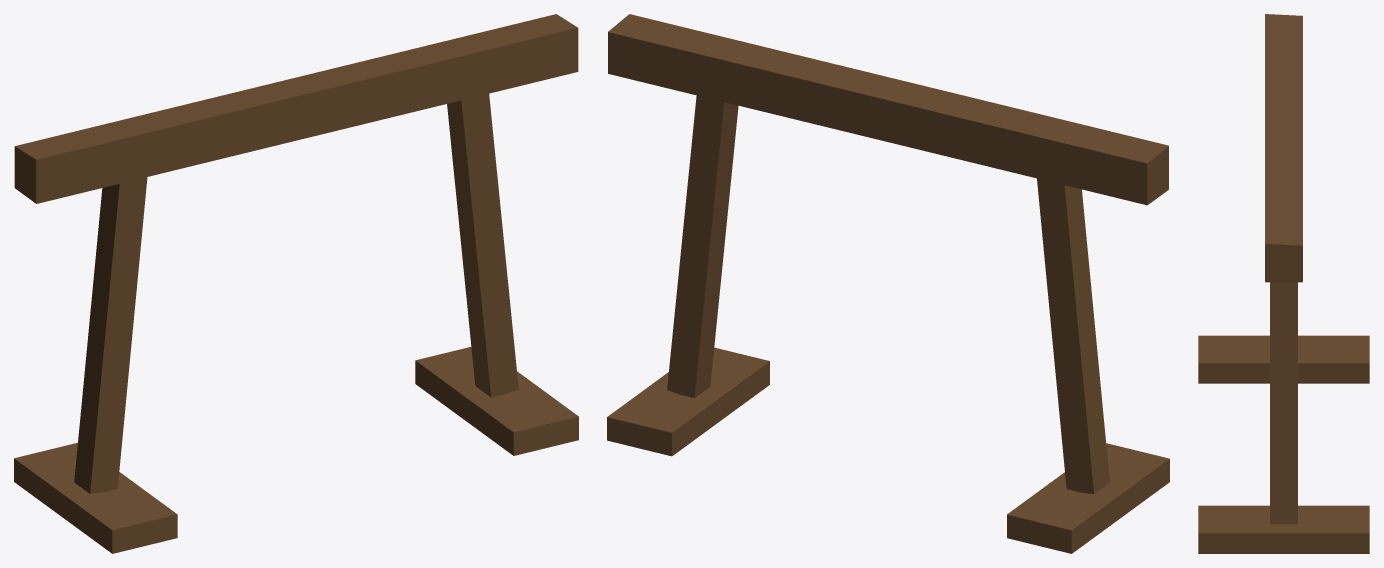
The model's file is shaft-rest.glb.
3 views of the same model, side by side, from view 1: azimuth 30°, elevation 25°; view 2: azimuth 150°, elevation 25°; view 3: azimuth 270°, elevation 25° (orthographic). The views are drawn at different scales.
Parts seen in each view (by area): view 1: carriage_shaft_rest_root; view 2: carriage_shaft_rest_root; view 3: carriage_shaft_rest_root.
Part boxes in pixels (x1,y1,x2,y2): carriage_shaft_rest_root: (14,14,578,553); carriage_shaft_rest_root: (607,14,1169,553); carriage_shaft_rest_root: (1198,14,1369,553).
Size of the model in its own units: 1.08 by 0.7146 by 0.34.
